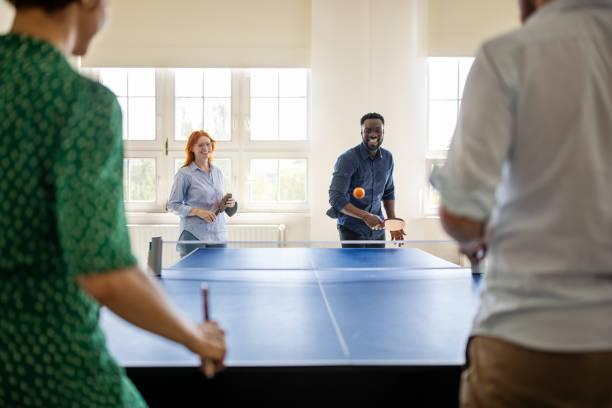ball_pingpong: (353, 187, 366, 198)
